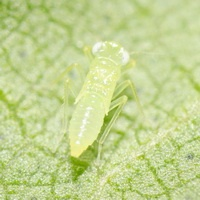insect: (69, 41, 128, 156)
